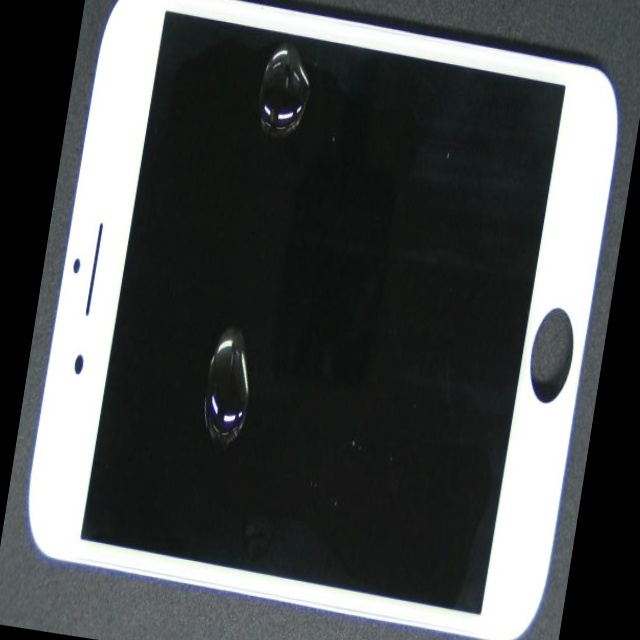oil: (120, 208, 378, 623), (204, 14, 421, 160)
